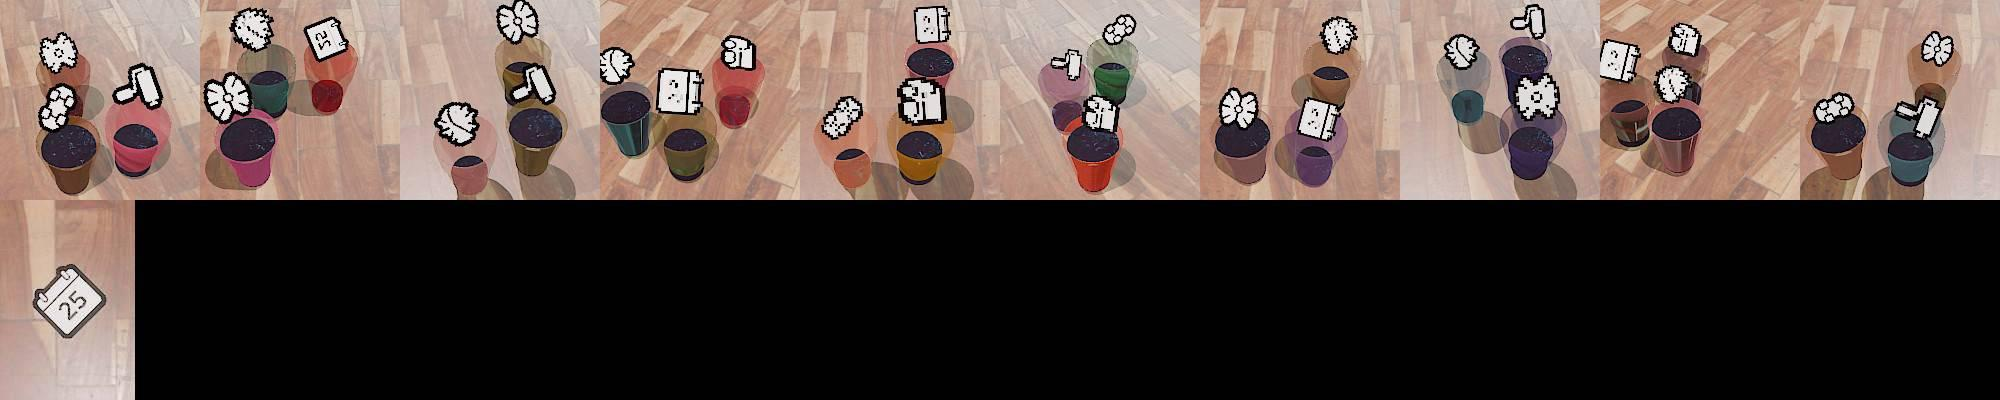icon: (31, 265, 107, 340), (203, 72, 253, 125), (111, 63, 163, 112), (655, 66, 705, 116), (896, 76, 946, 126), (301, 14, 352, 62), (1513, 73, 1562, 122), (505, 62, 557, 107), (433, 99, 481, 146), (1297, 94, 1344, 142), (1894, 96, 1944, 140), (1217, 85, 1261, 134), (1597, 39, 1641, 84), (821, 94, 865, 138), (37, 85, 77, 132), (495, 0, 537, 44), (38, 32, 78, 75), (232, 8, 273, 49), (1081, 94, 1121, 135), (1653, 65, 1695, 104), (913, 4, 952, 44), (1509, 2, 1548, 41), (1443, 33, 1482, 70), (719, 34, 758, 71), (598, 46, 634, 86), (1320, 15, 1356, 55), (1813, 92, 1855, 125), (1667, 22, 1704, 59), (1451, 88, 1485, 126), (1921, 31, 1956, 67), (1049, 47, 1083, 83), (1102, 13, 1137, 47)
